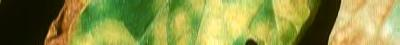Tomato mold leaf: (9, 0, 337, 45)
